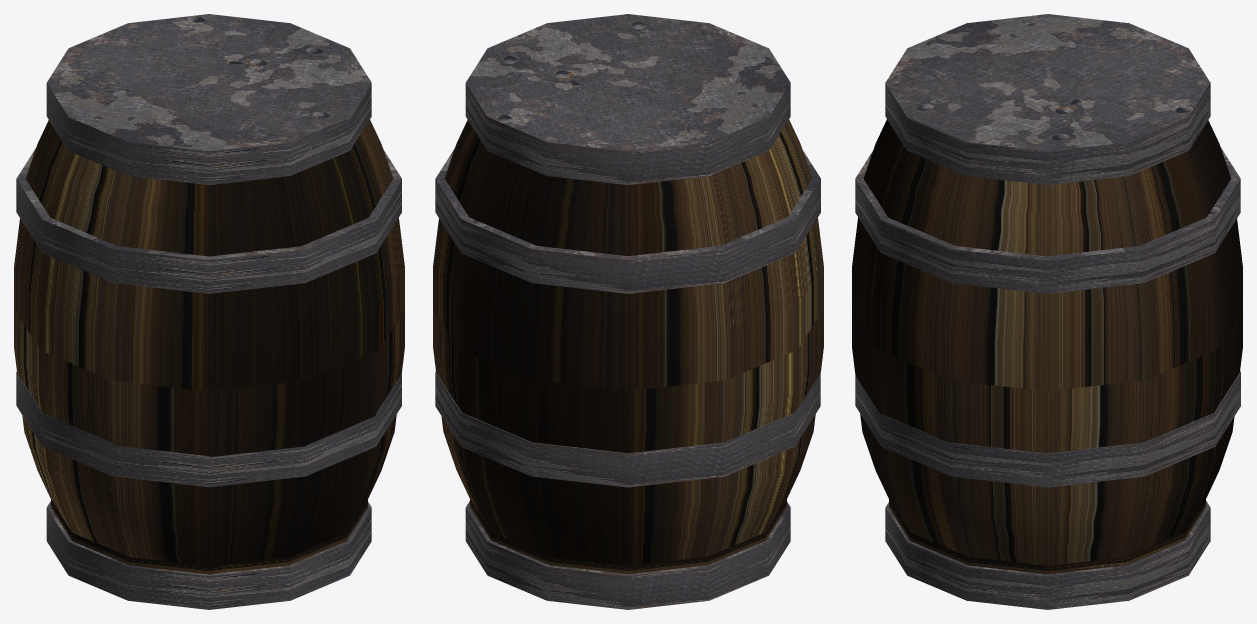
File: barrel.fbx
3 renders of one model, left to right at view 1: azimuth 30°, elevation 25°; view 2: azimuth 150°, elevation 25°; view 3: azimuth 270°, elevation 25°, orthographic.
Parts seen in each view (by area): view 1: wooden part, metal part; view 2: wooden part, metal part; view 3: wooden part, metal part.
Boxes of the visible parts, x1=… form: wooden part: x1=14, y1=120, x2=404, y2=574; metal part: x1=16, y1=14, x2=401, y2=609; wooden part: x1=433, y1=119, x2=823, y2=574; metal part: x1=435, y1=14, x2=820, y2=609; wooden part: x1=852, y1=119, x2=1242, y2=574; metal part: x1=855, y1=14, x2=1240, y2=609.
Size of the model in its own units: 363 by 470 by 363.
Materials: 2 (2 with a texture image).
